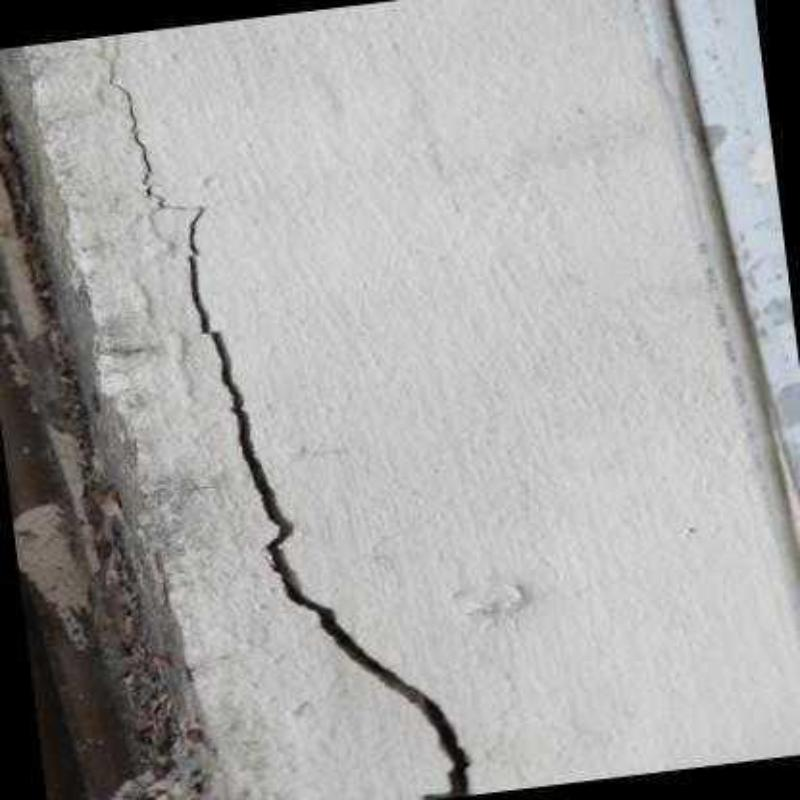pothole: (108, 74, 470, 800)
